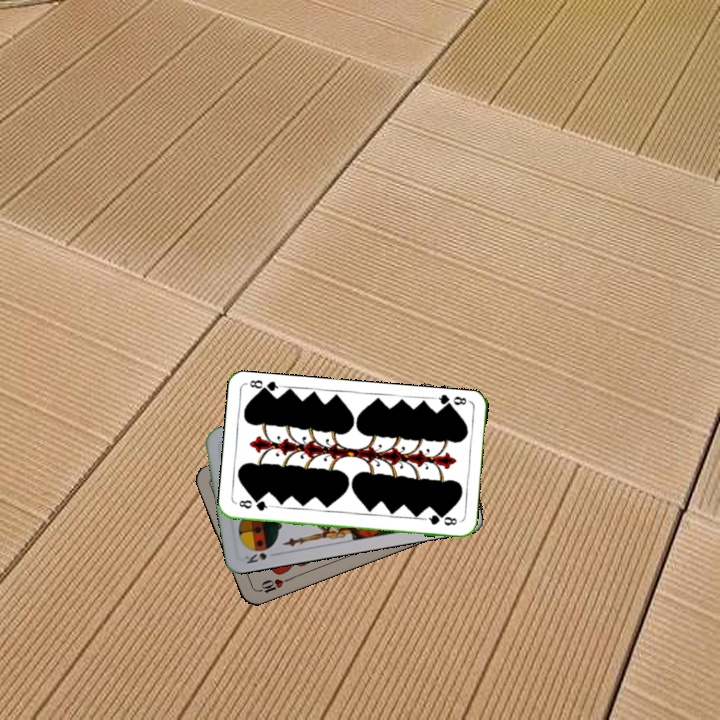G8: (431, 391, 469, 412), (235, 496, 273, 513)
H10: (253, 574, 292, 596)
SK: (241, 549, 280, 566)
